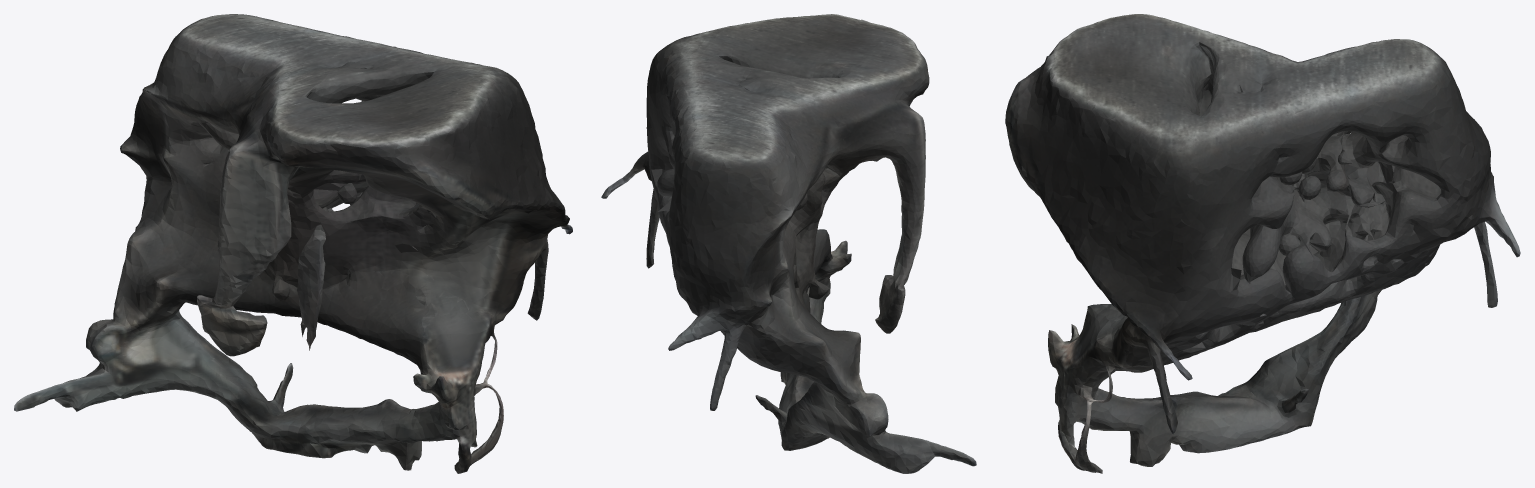
The model's file is IMG_SEG_37.glb.
3 views of the same model, side by side, from view 1: azimuth 30°, elevation 25°; view 2: azimuth 150°, elevation 25°; view 3: azimuth 270°, elevation 25° (orthographic). The views are drawn at different scales.
Size of the model in its own units: 1.23 by 0.9179 by 1.1.
Materials: 1 (1 with a texture image).
